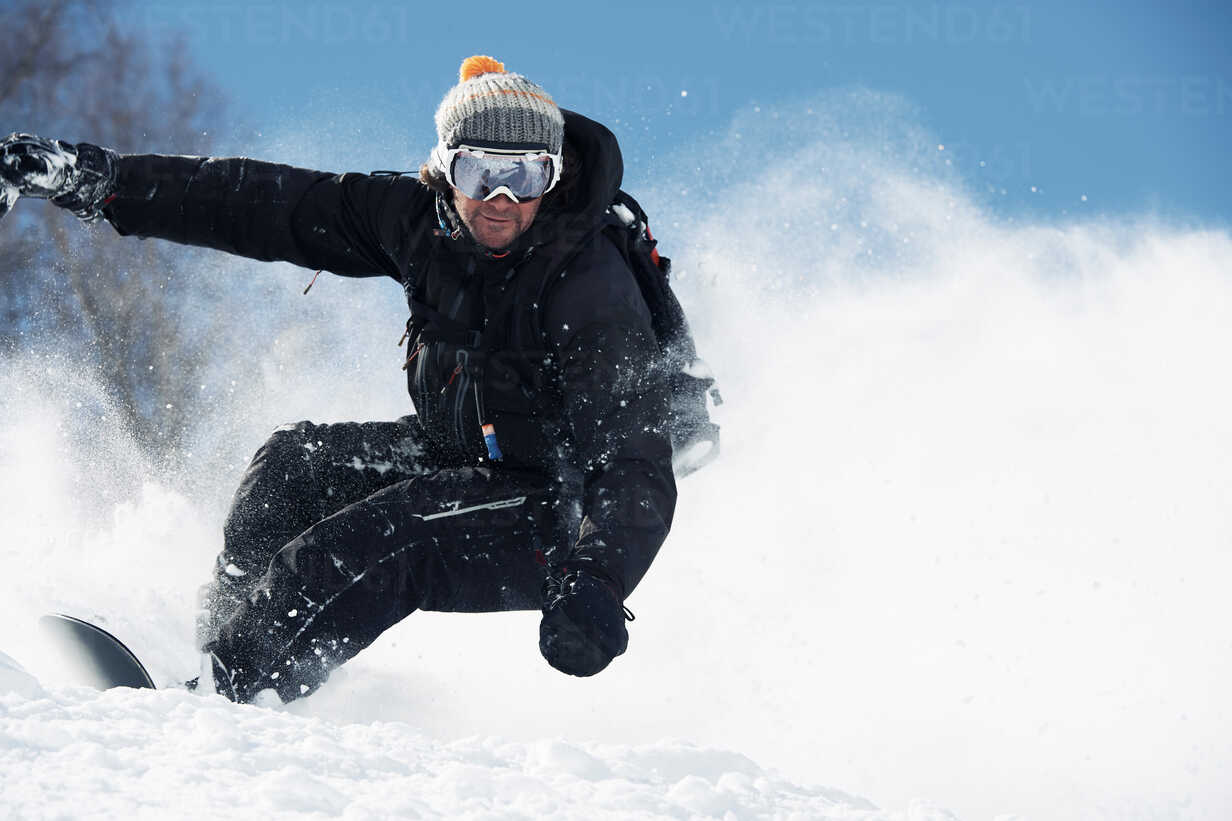snowboarder: (0, 0, 779, 794)
